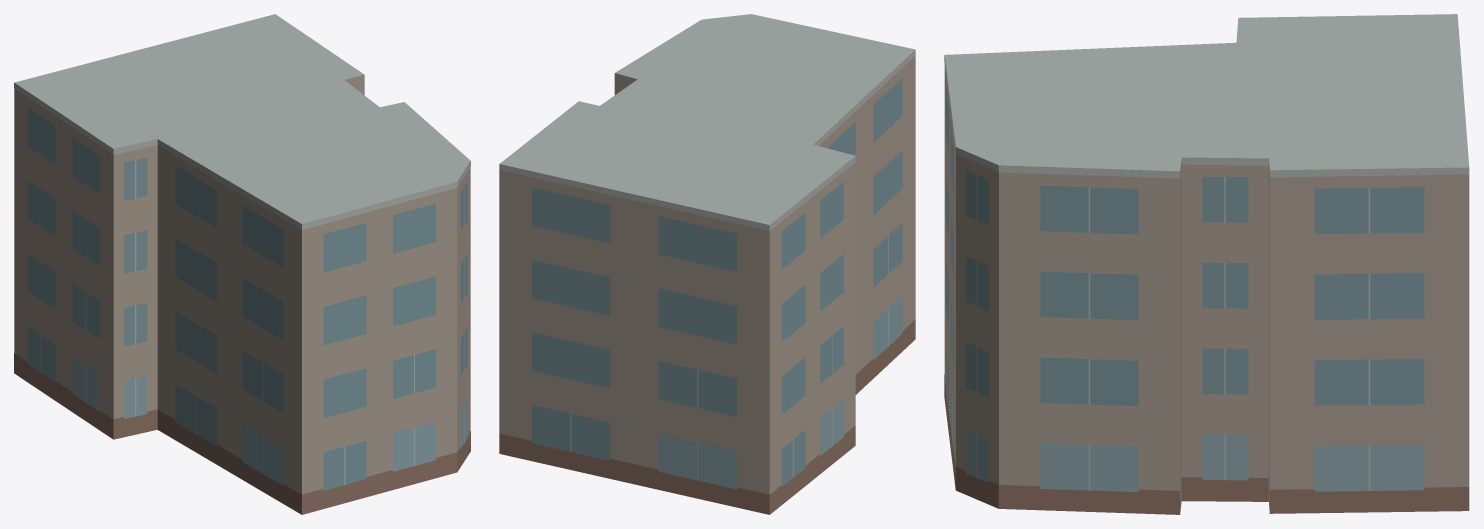
File: survey-upis-32989542.glb
3 renders of one model, left to right at view 1: azimuth 30°, elevation 25°; view 2: azimuth 150°, elevation 25°; view 3: azimuth 270°, elevation 25°, orthographic. The views are drawn at different scales.
Visible parts, largest first — view 1: survey-upis-32989542.tmp; view 2: survey-upis-32989542.tmp; view 3: survey-upis-32989542.tmp.
Part boxes in pixels (x1,y1,x2,y2): survey-upis-32989542.tmp: [14, 14, 470, 514]; survey-upis-32989542.tmp: [499, 14, 915, 514]; survey-upis-32989542.tmp: [944, 14, 1469, 514].
Size of the model in its own units: 11.5 by 11.7 by 16.21.
